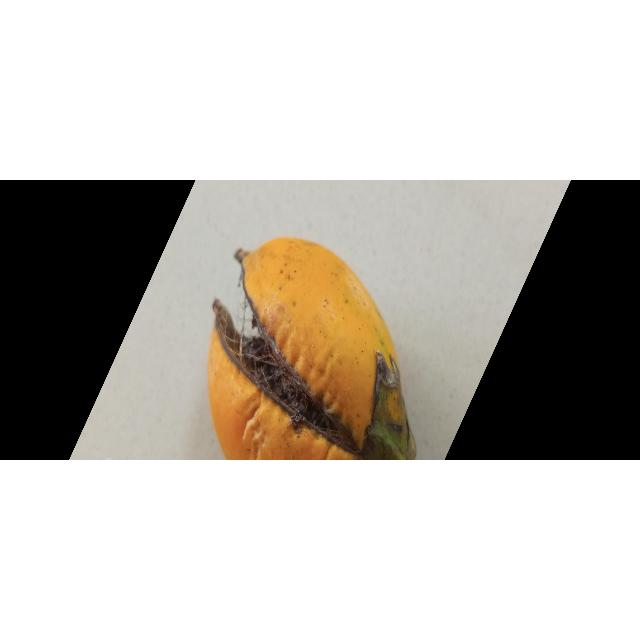damaged: (208, 238, 416, 461)
